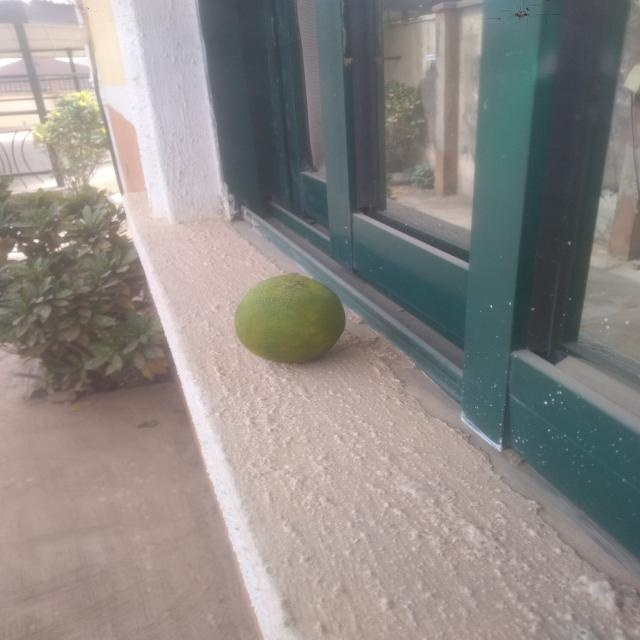agrume: (209, 263, 392, 386)
